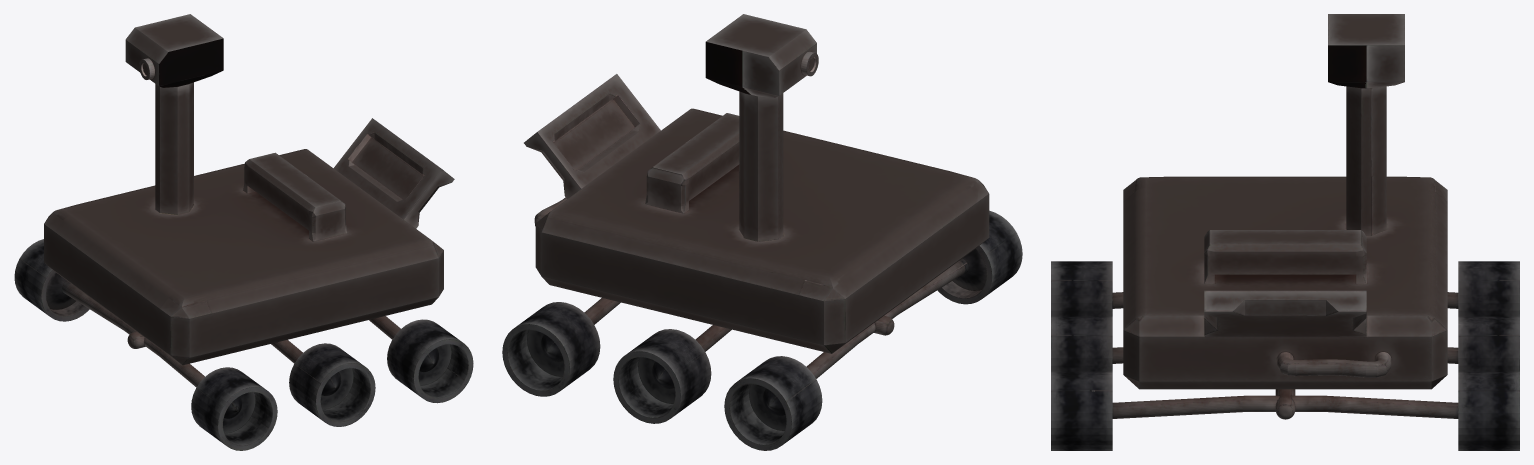
Rendered from rover.glb.
The picture shows the model from 3 angles, left to right: view 1: azimuth 30°, elevation 25°; view 2: azimuth 150°, elevation 25°; view 3: azimuth 270°, elevation 25°; orthographic projection. The views are drawn at different scales.
Visible parts, largest first — view 1: Cylinder; view 2: Cylinder; view 3: Cylinder.
Boxes of the visible parts, <box> form: Cylinder: <box>14,14,473,450</box>; Cylinder: <box>502,14,1022,450</box>; Cylinder: <box>1051,14,1519,450</box>.
Bounding box in the file's own units: 1.02 × 0.9376 × 1.15.
1 material, 1 textured.
